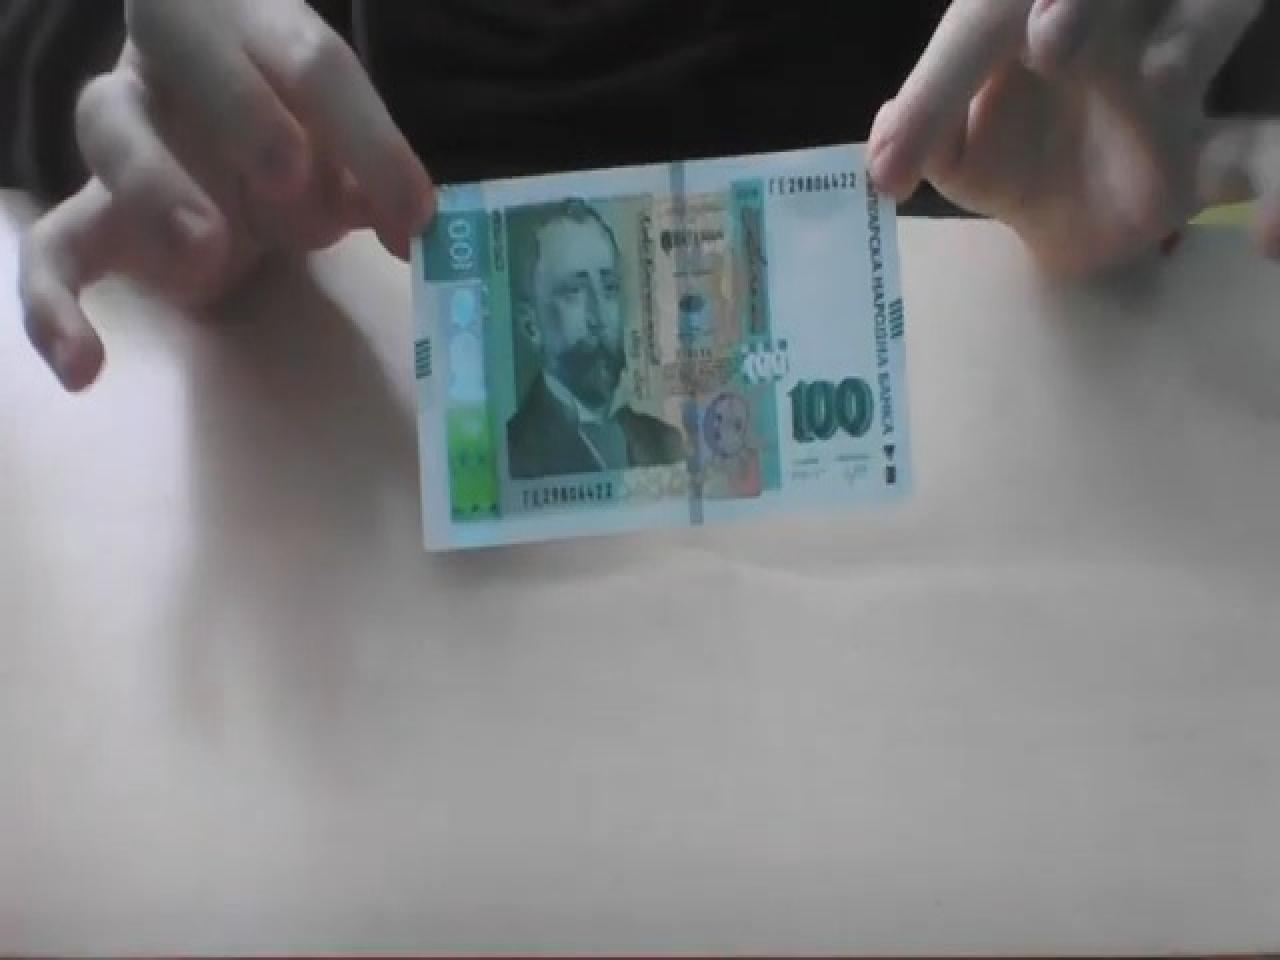100leva: (416, 146, 914, 550)
